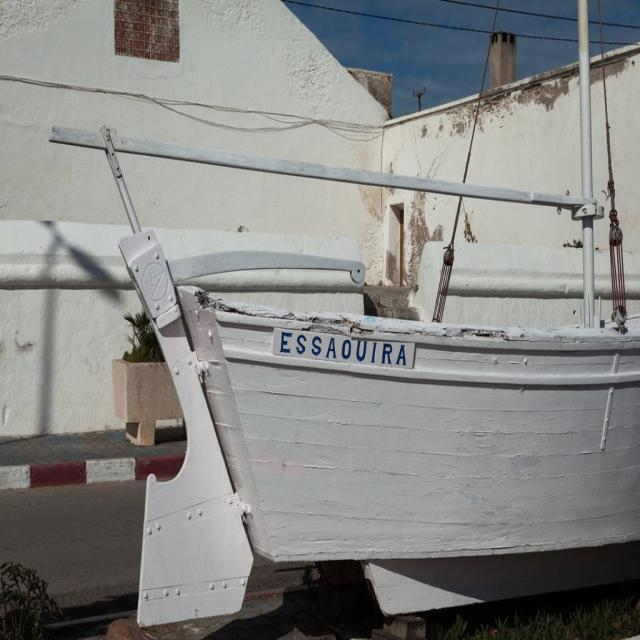Boat: (80, 17, 640, 629)
